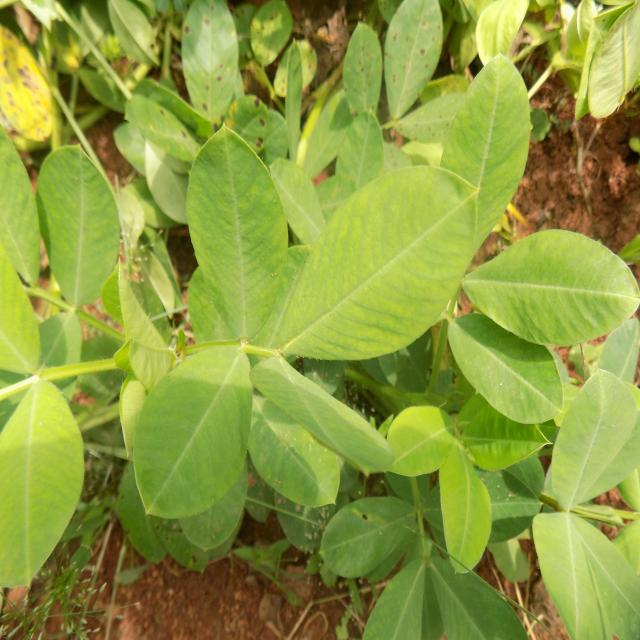Ground nut_healthy: (284, 164, 478, 361), (185, 121, 288, 346), (461, 229, 637, 346), (133, 348, 253, 518), (35, 144, 122, 310)
